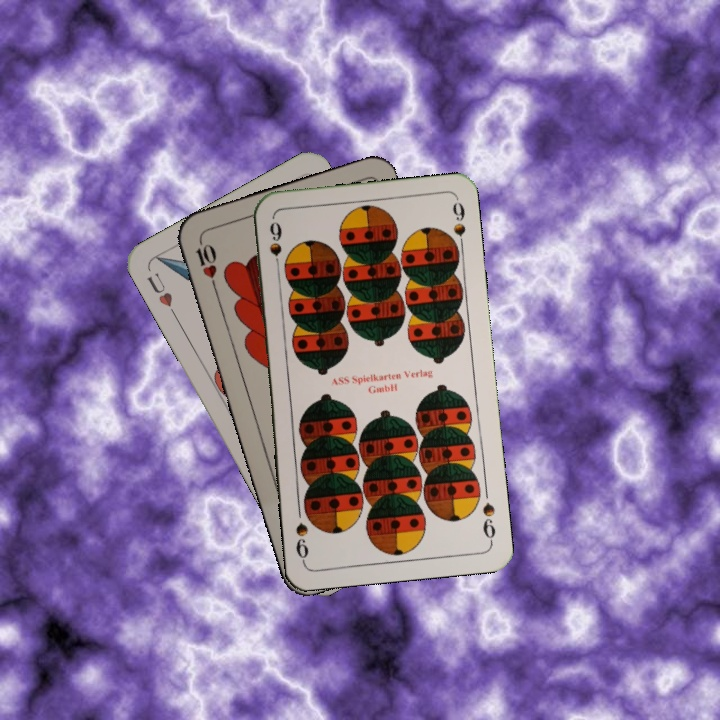H10: (191, 236, 220, 294)
HU: (142, 268, 179, 320)
S9: (265, 217, 284, 275), (478, 498, 498, 546)
